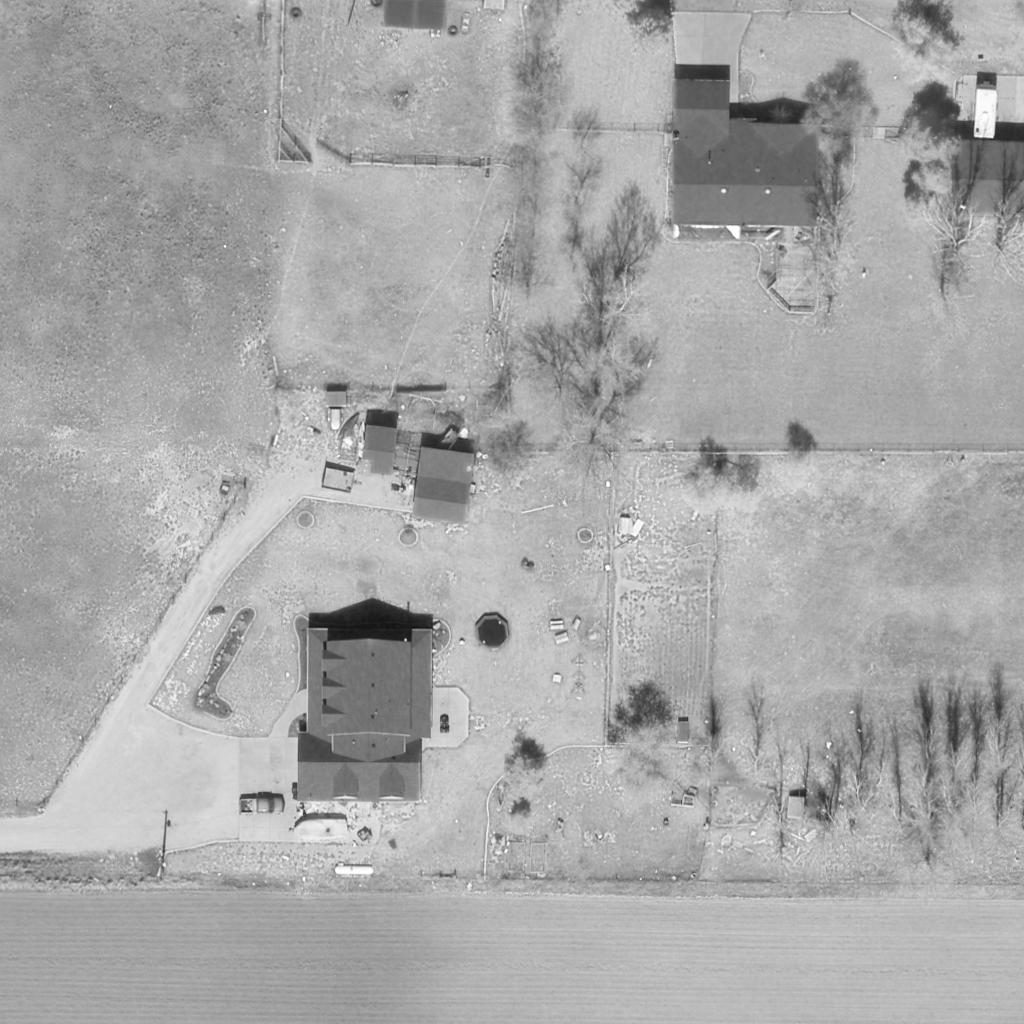vehicle: (971, 83, 1001, 141), (290, 815, 350, 841), (238, 795, 284, 815)
